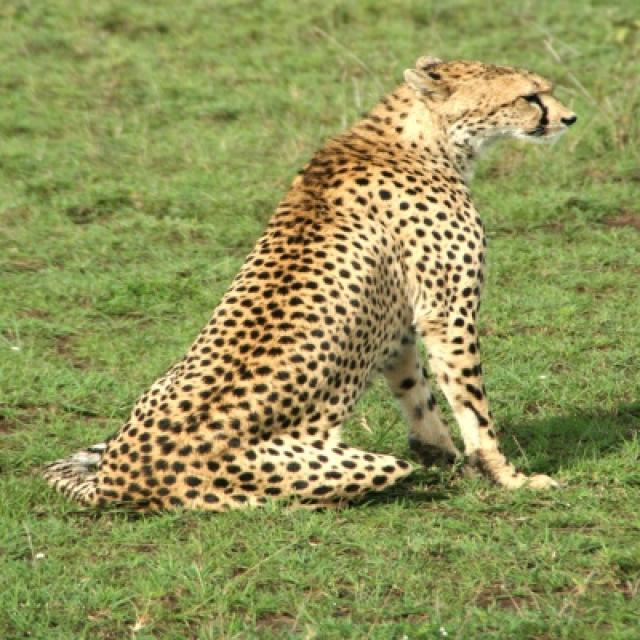Cheetah: (40, 54, 576, 510)
